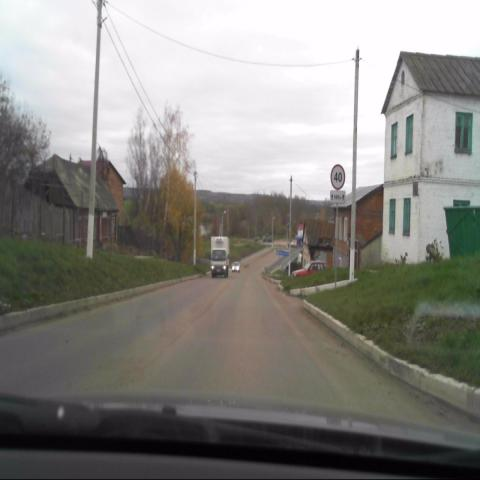3_24: (330, 164, 346, 189)
8_2_1: (330, 190, 346, 205)
